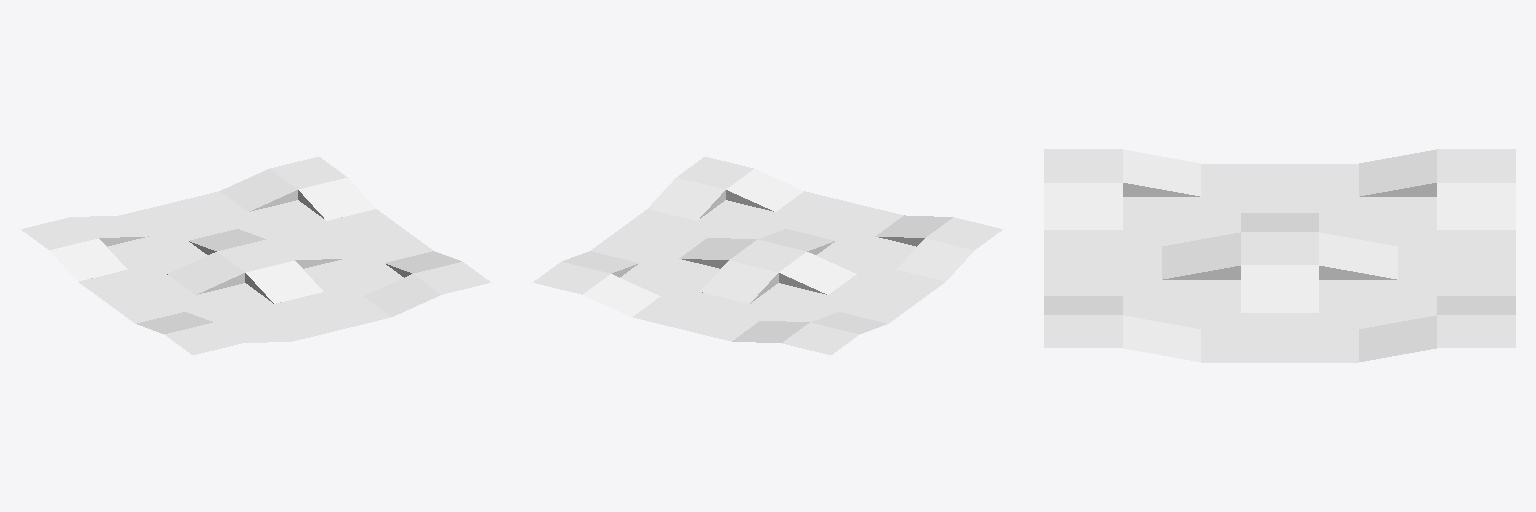
The robot description file, URDF, robot "tag1_1":
<?xml version="1.0" ?>
<robot name="tag1_1">
  <link name="ground">
  <contact>
      <lateral_friction value="2"/>
  </contact>
    <inertial>
      <origin rpy="0 0 0" xyz="0 0 0"/>
       <mass value="1000.0"/>
       <inertia ixx="0" ixy="0" ixz="0" iyy="0" iyz="0" izz="0"/>
    </inertial>
    <visual>
      <origin rpy="0 0 0" xyz="0 0 0"/>
      <geometry>
        <mesh filename="tag1_2.obj" scale="1 1 1"/>
      </geometry>
       <material name="white">
        <color rgba="1 1 1 1"/>
      </material>
    </visual>
        <collision concave="yes">
      <origin rpy="0 0 0" xyz="0 0 0"/>
      <geometry>
        <mesh filename="tag1_2.obj" scale="1 1 1"/>
      </geometry>
    </collision>
  </link>
</robot>

--- What the picture shows (computed from the rendered views, not written in the file) ---
3 views of the same robot in one strip: view 1: azimuth 30°, elevation 25°; view 2: azimuth 150°, elevation 25°; view 3: azimuth 270°, elevation 25° (orthographic).
Robot: tag1_1 — 1 links, 0 joints (none); root link ground; default pose: every joint at zero.
Links seen in each view (by area): view 1: ground; view 2: ground; view 3: ground.
Boxes of the visible links, x1,y1,x2,y2 form: ground: [21, 157, 490, 354]; ground: [533, 157, 1002, 354]; ground: [1044, 149, 1515, 362].
Bounding box of the posed robot: 30 × 30 × 1 m (x, y, z).
1 mesh visuals loaded from 1 distinct referenced files (1 OBJ).
